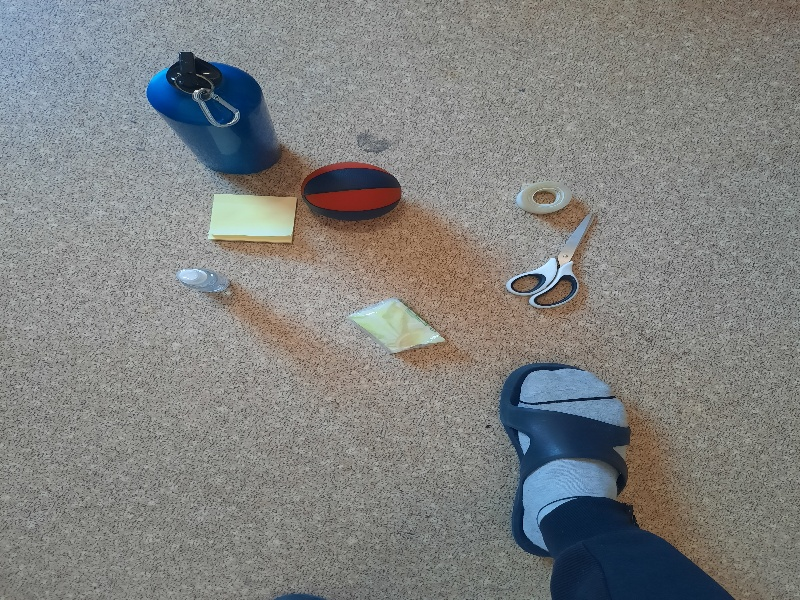ballon: (302, 161, 402, 222)
ciseaux: (504, 213, 598, 309)
gel: (177, 268, 234, 297)
gourde: (144, 50, 284, 175)
mouchoirs: (342, 296, 449, 355)
post-it: (206, 192, 297, 246)
scotch: (518, 181, 571, 216)
